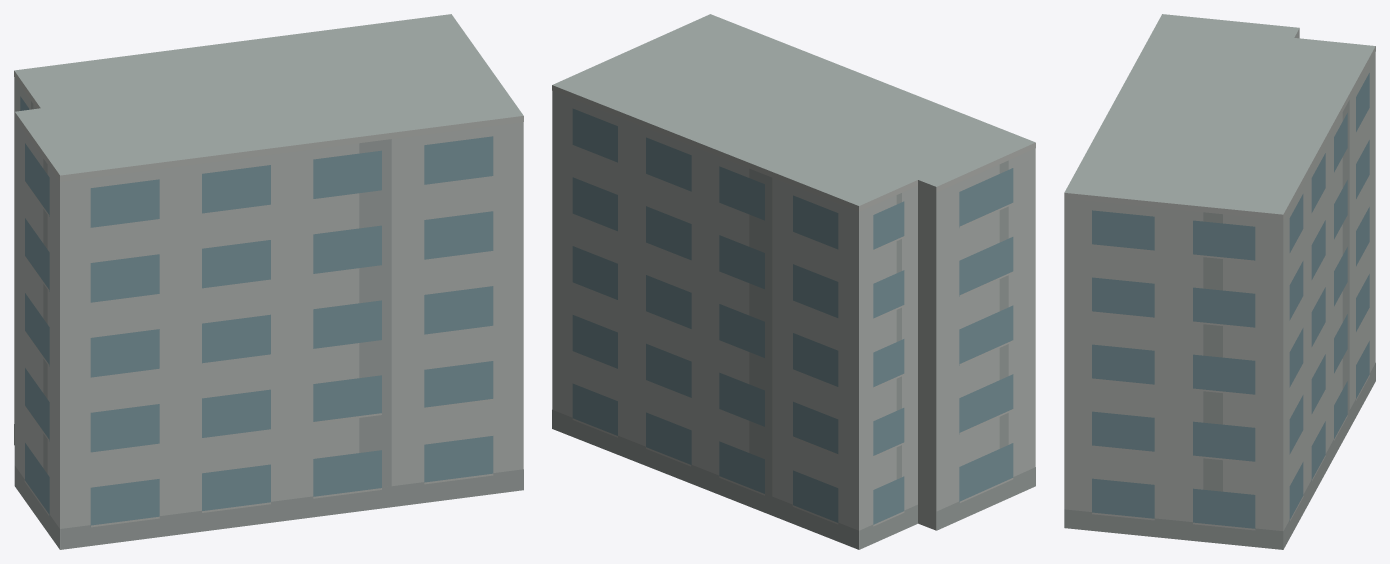
The model's file is survey-upis-32601038.glb.
3 views of the same model, side by side, from view 1: azimuth 30°, elevation 25°; view 2: azimuth 150°, elevation 25°; view 3: azimuth 270°, elevation 25° (orthographic). The views are drawn at different scales.
Parts seen in each view (by area): view 1: survey-upis-32601038.tmp; view 2: survey-upis-32601038.tmp; view 3: survey-upis-32601038.tmp.
Part boxes in pixels (x1,y1,x2,y2): survey-upis-32601038.tmp: (14,14,523,549); survey-upis-32601038.tmp: (552,14,1035,549); survey-upis-32601038.tmp: (1064,14,1375,549).
Bounding box in the file's own units: 18.75 × 14.6 × 12.3.
